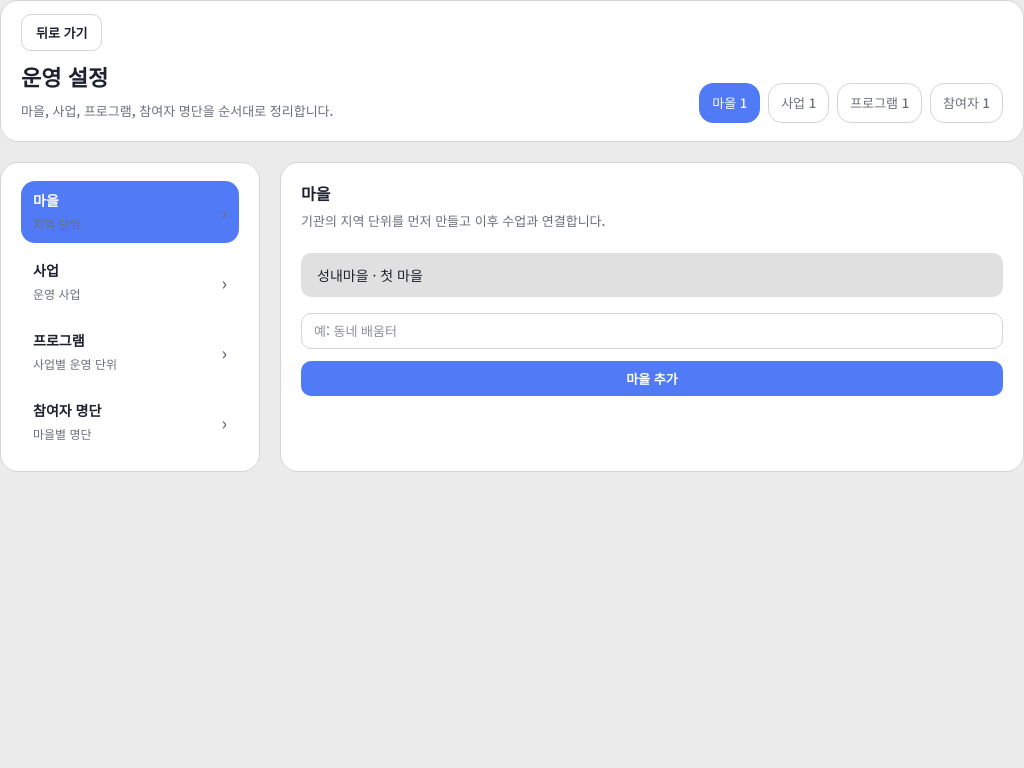
Test: SettingsScreen › switches the visible workspace when a settings channel is clicked
The image size is (1024, 768).
What coordinates should you click on to do the following:
click the button "사업 운영 사업 ›"
I would click on:
 (130, 282)
Its box is top-left (21, 250), bottom-right (239, 312).
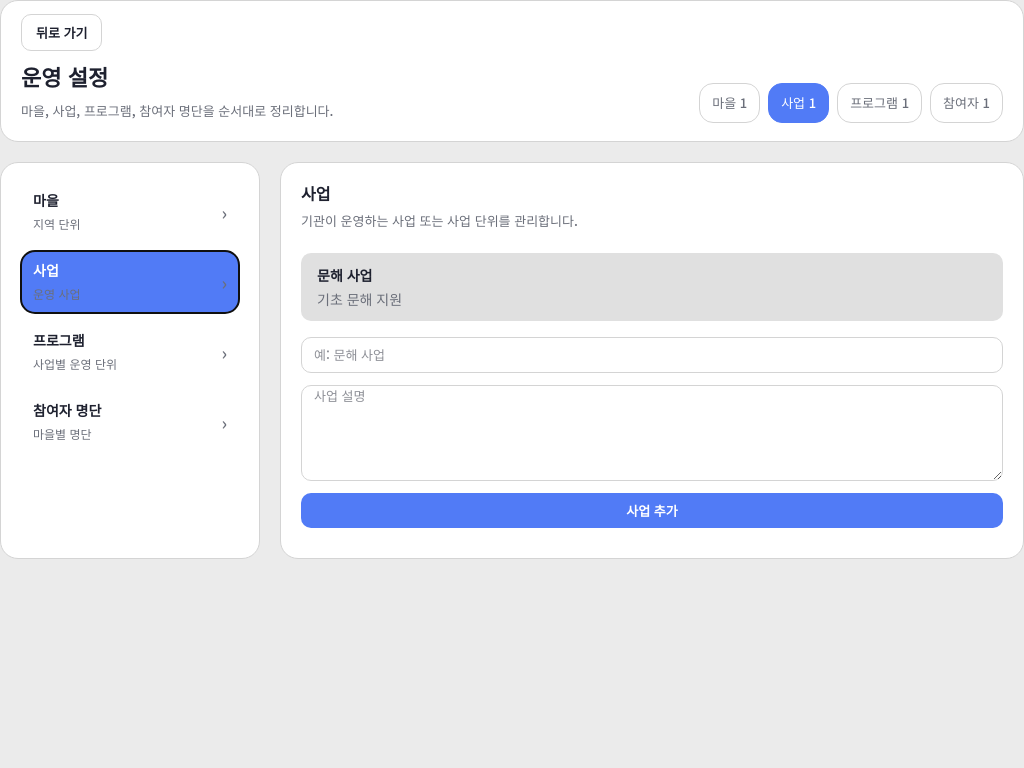
Result: the heading "사업" is shown at top-left (301, 180), bottom-right (330, 204)
Result: the text "문해 사업" is shown at top-left (317, 264), bottom-right (372, 284)
Result: the field with placeholder "예: 문해 사업" is shown at top-left (301, 336), bottom-right (1003, 372)
What coordinates should you click on to do the following:
click the button "프로그램 1"
I would click on:
 (880, 103)
Its box is top-left (837, 83), bottom-right (922, 122).
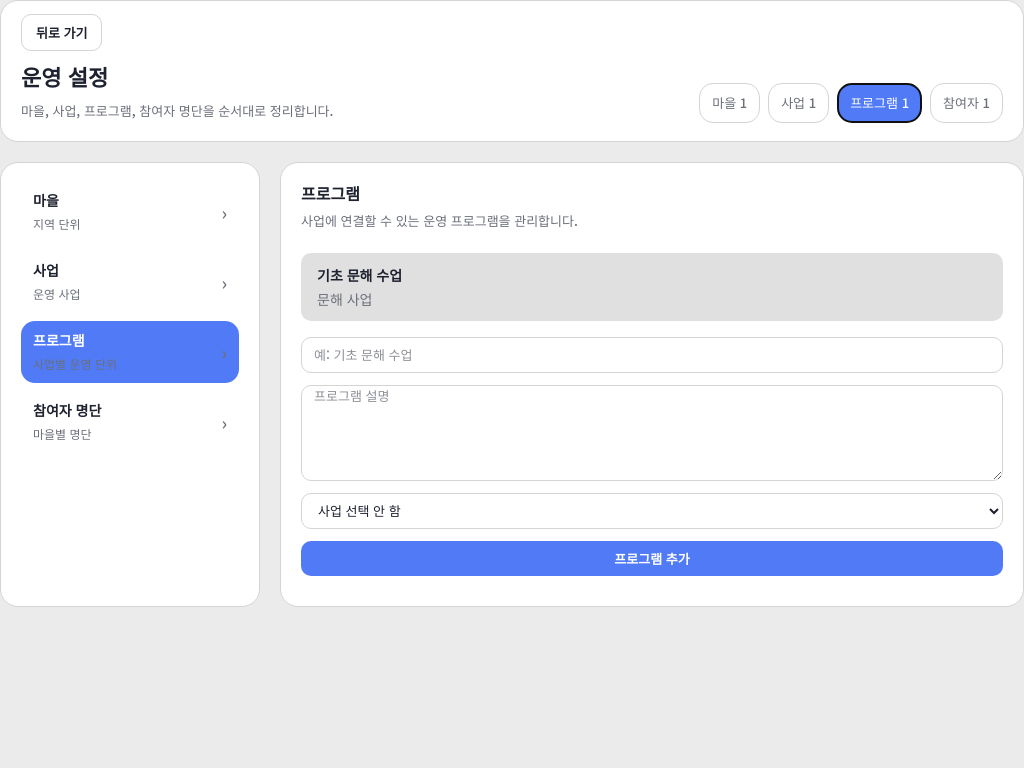
Result: the heading "프로그램" is shown at top-left (301, 180), bottom-right (360, 204)
Result: the text "기초 문해 수업" is shown at top-left (317, 264), bottom-right (402, 284)
Result: the button "프로그램 추가" is shown at top-left (301, 540), bottom-right (1003, 576)
What coordinates should you click on to do the following:
click the button "참여자 명단 마을별 명단 ›"
I would click on:
 (130, 422)
Its box is top-left (21, 390), bottom-right (239, 452).
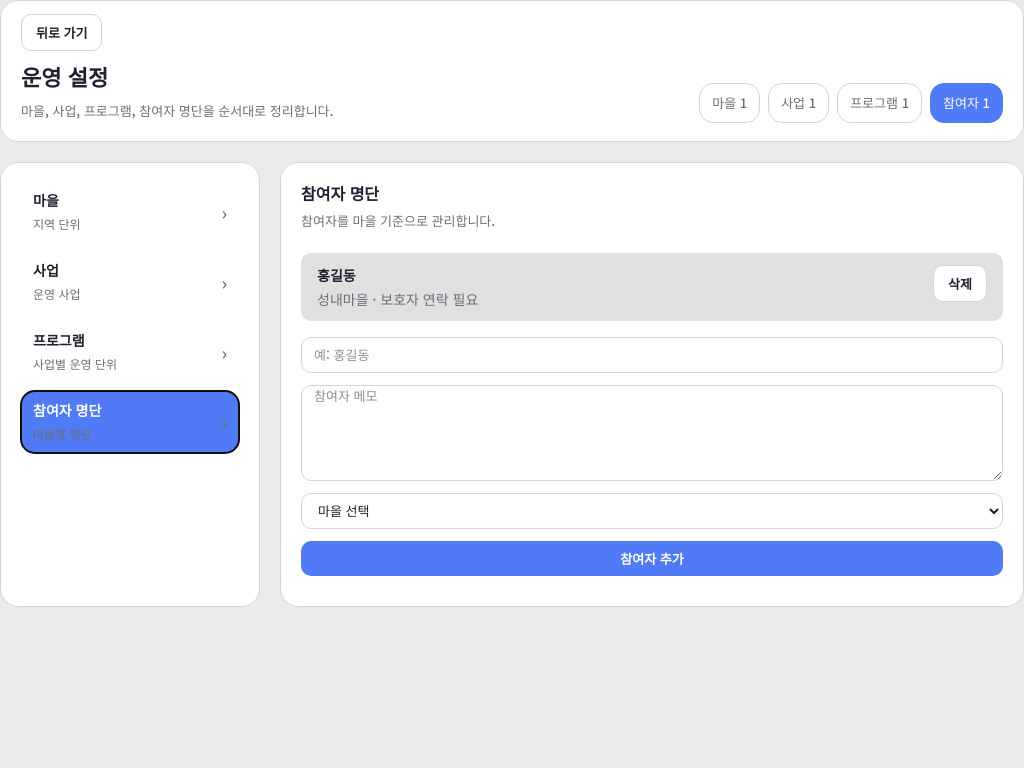
Result: the heading "참여자 명단" is shown at top-left (301, 180), bottom-right (379, 204)
Result: the text "홍길동" is shown at top-left (317, 264), bottom-right (356, 284)
Result: the dropdown named "참여자 마을" is shown at top-left (301, 492), bottom-right (1003, 528)
